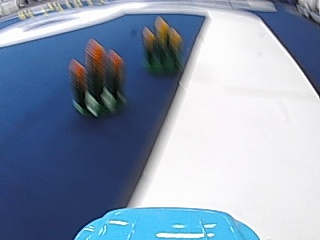corn: (71, 42, 126, 119), (142, 18, 183, 77)
